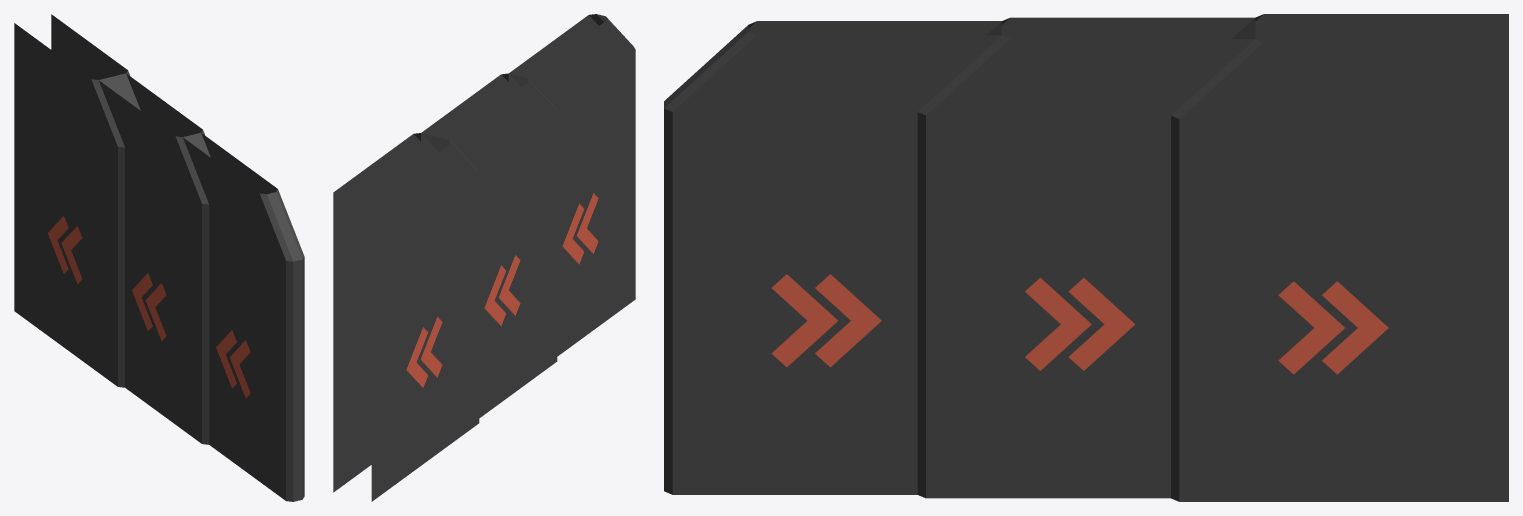
File: LargeSlidingDoor.FBX
3 views of the same model, side by side, from view 1: azimuth 30°, elevation 25°; view 2: azimuth 150°, elevation 25°; view 3: azimuth 270°, elevation 25° (orthographic). The views are drawn at different scales.
Parts seen in each view (by area): view 1: Door001, Door003, Door002; view 2: Door001, Door002, Door003; view 3: Door001, Door002, Door003.
Part boxes in pixels (x1,y1,x2,y2): Door001: (14, 14, 140, 387); Door003: (183, 133, 304, 501); Door002: (99, 73, 210, 444); Door001: (333, 133, 479, 501); Door002: (421, 73, 557, 418); Door003: (508, 14, 635, 356); Door001: (1171, 14, 1508, 501); Door002: (917, 17, 1254, 498); Door003: (664, 21, 1001, 494).
Bounding box in the file's own units: 40 × 300 × 500.
Materials: 1 (1 with a texture image).
